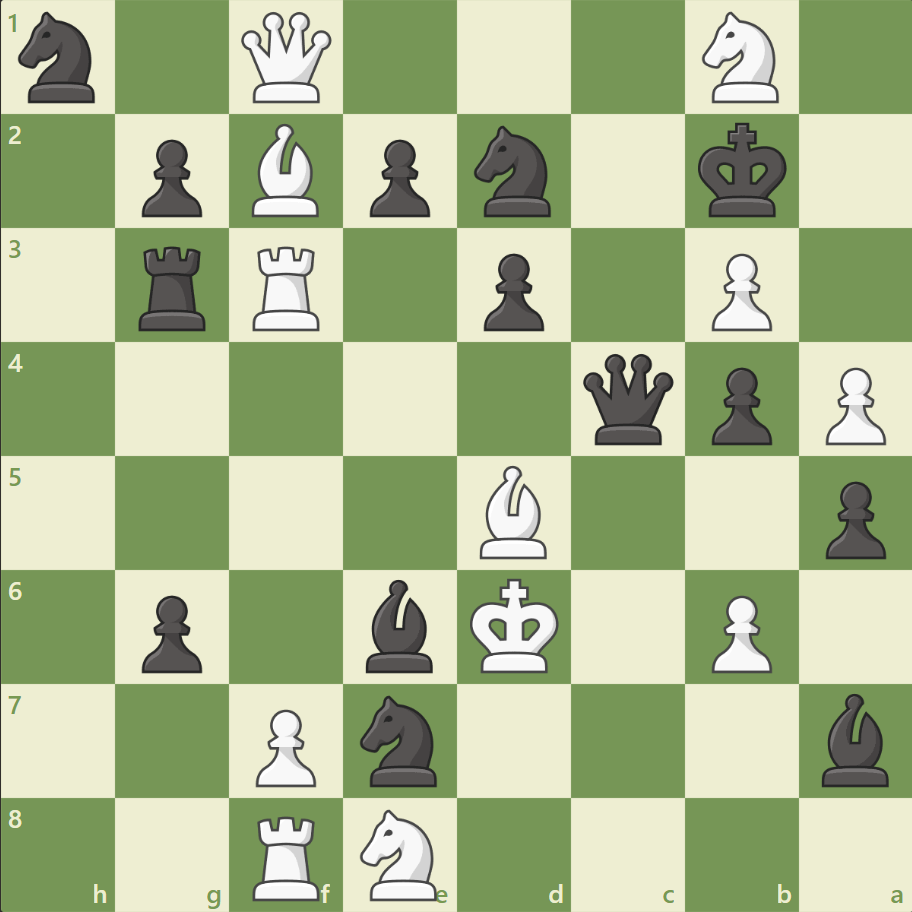B: (471, 460, 555, 563), (244, 120, 328, 222)
K: (465, 571, 565, 679)
N: (351, 802, 449, 904), (692, 7, 789, 110)
P: (247, 700, 322, 791), (701, 586, 776, 677), (701, 246, 776, 337), (815, 359, 889, 450)
Q: (237, 9, 336, 108)
R: (246, 806, 329, 904), (246, 239, 329, 336)
b: (812, 687, 896, 790), (358, 574, 442, 676)
k: (692, 117, 792, 225)
n: (351, 688, 449, 791), (11, 7, 108, 110), (465, 121, 562, 223)
p: (133, 586, 208, 677), (701, 359, 776, 450), (474, 246, 549, 337), (133, 132, 208, 223), (815, 473, 889, 564), (361, 132, 435, 223)
q: (578, 349, 677, 449)
r: (133, 239, 215, 336)
